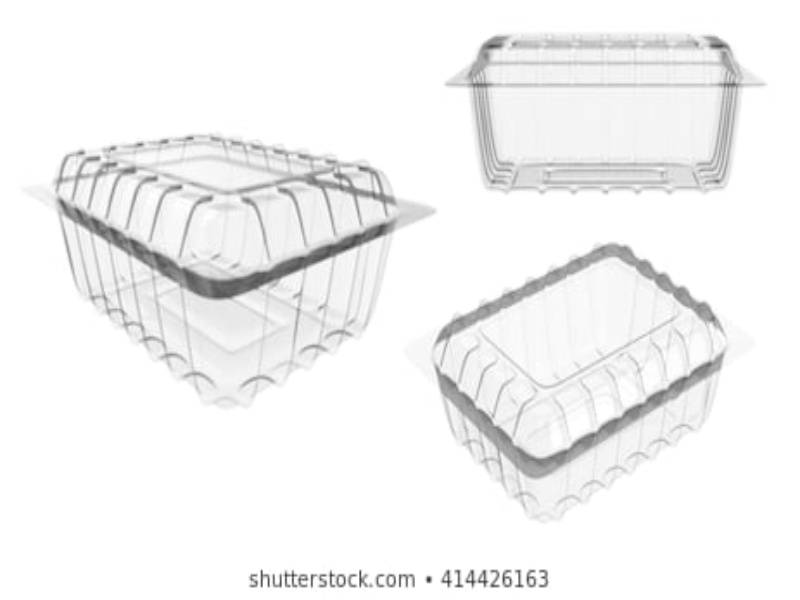plastic-container: (24, 131, 435, 405), (428, 240, 750, 523), (442, 24, 768, 200)
